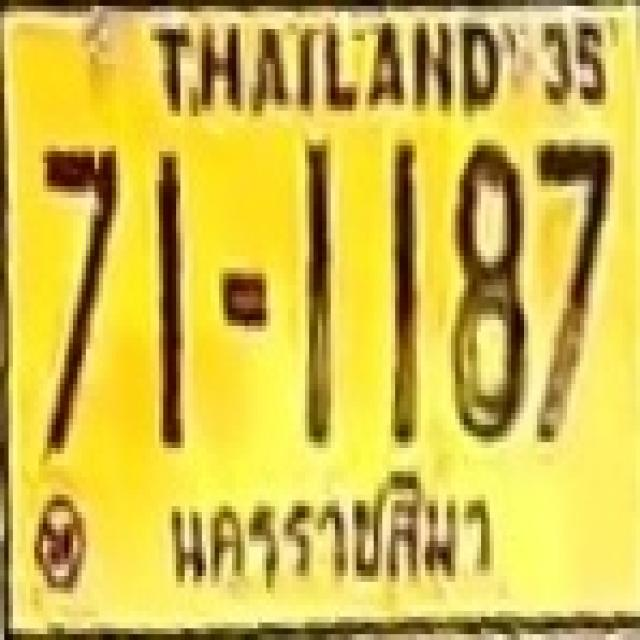1: (156, 151, 182, 419), (302, 140, 328, 407), (302, 140, 328, 396), (388, 137, 414, 387)
7: (533, 136, 610, 428), (43, 146, 116, 430), (533, 136, 610, 364), (43, 142, 116, 364), (533, 134, 610, 326), (43, 146, 116, 332)
8: (447, 140, 524, 436)
NMA: (155, 461, 502, 590)
